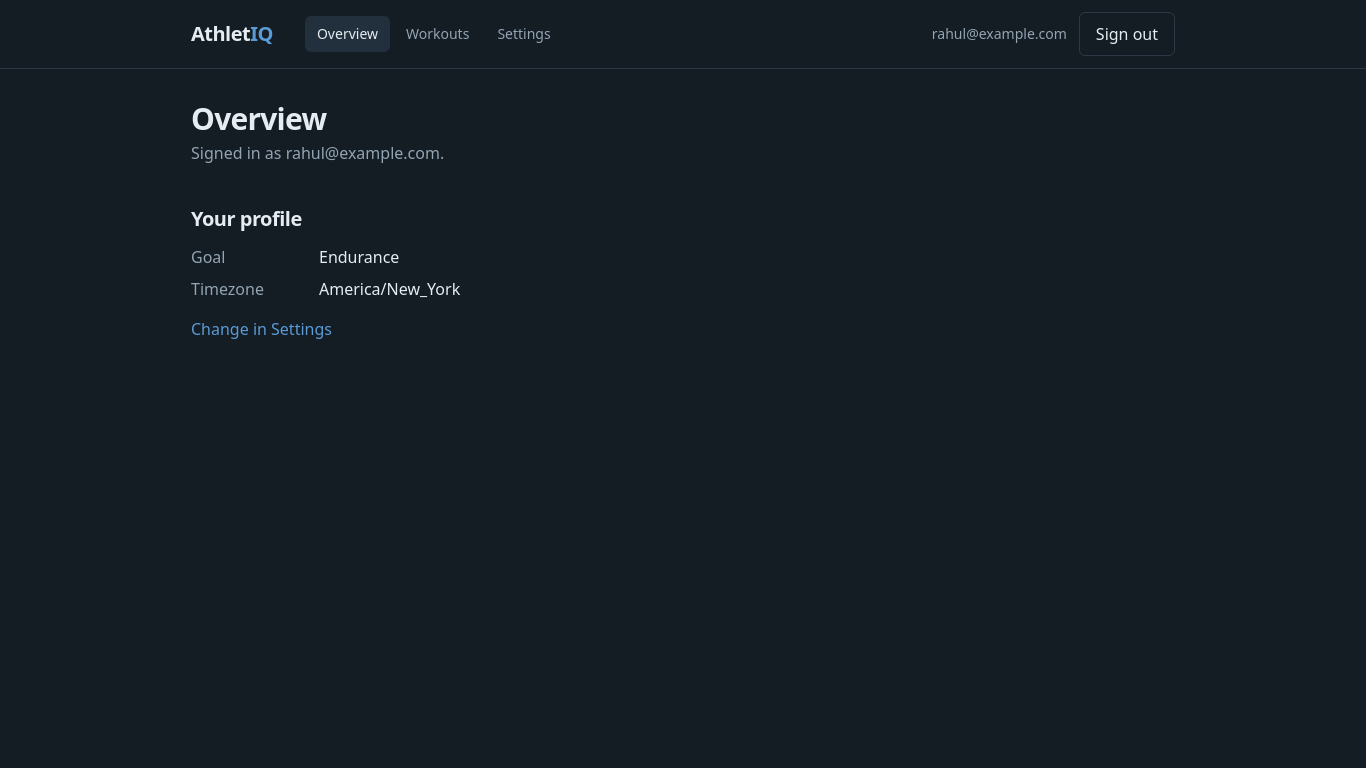
Test: profile gate › loads the profile once and shares it across pages
Expected: the heading "Overview" is shown, [191,98,326,139]
Click the link "Settings" at [524, 34], box [497,24,551,43]
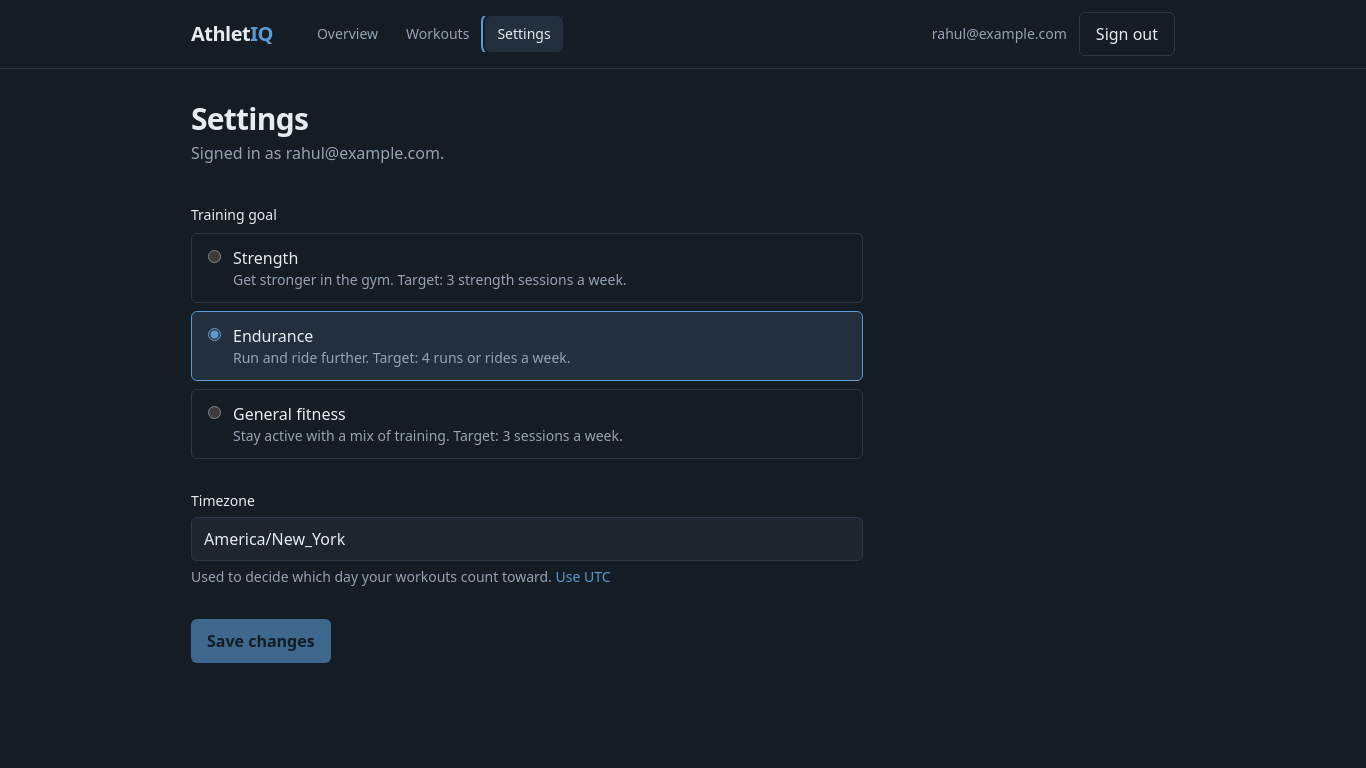
Result: the heading "Settings" is shown at [191,98,308,139]
